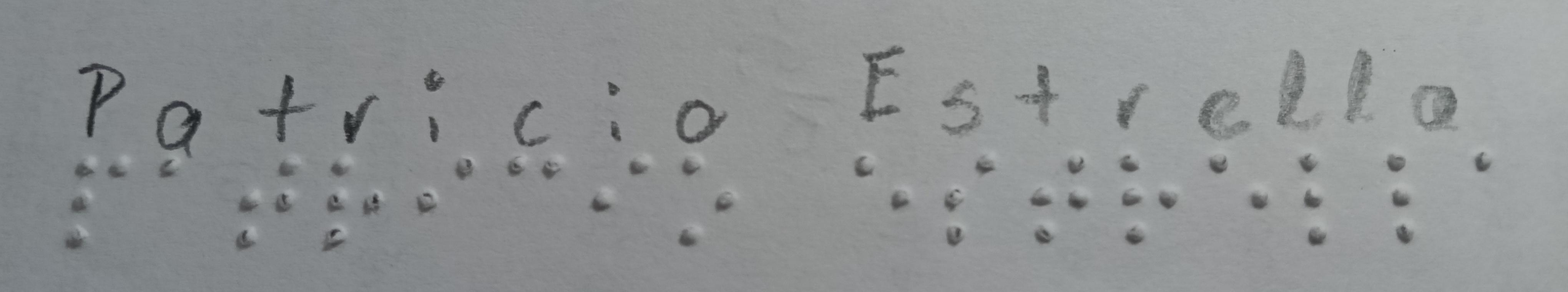a: (146, 146, 196, 190), (1455, 144, 1512, 180)
c: (494, 150, 573, 192)
e: (840, 140, 917, 234), (1197, 144, 1274, 221)
i: (398, 148, 486, 224), (584, 150, 661, 215)
l: (1364, 138, 1435, 253), (1282, 146, 1343, 257)
o: (669, 152, 740, 255)
p: (58, 148, 142, 255)
r: (1111, 142, 1193, 263), (319, 150, 394, 265)
s: (930, 152, 1001, 257)
t: (221, 150, 313, 253), (1015, 144, 1099, 255)
